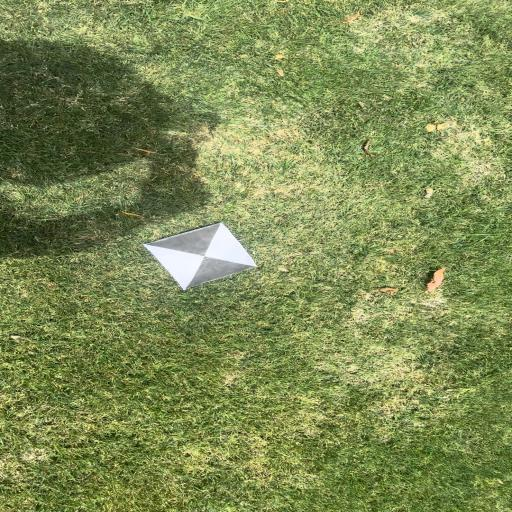target: (143, 222, 257, 290)
